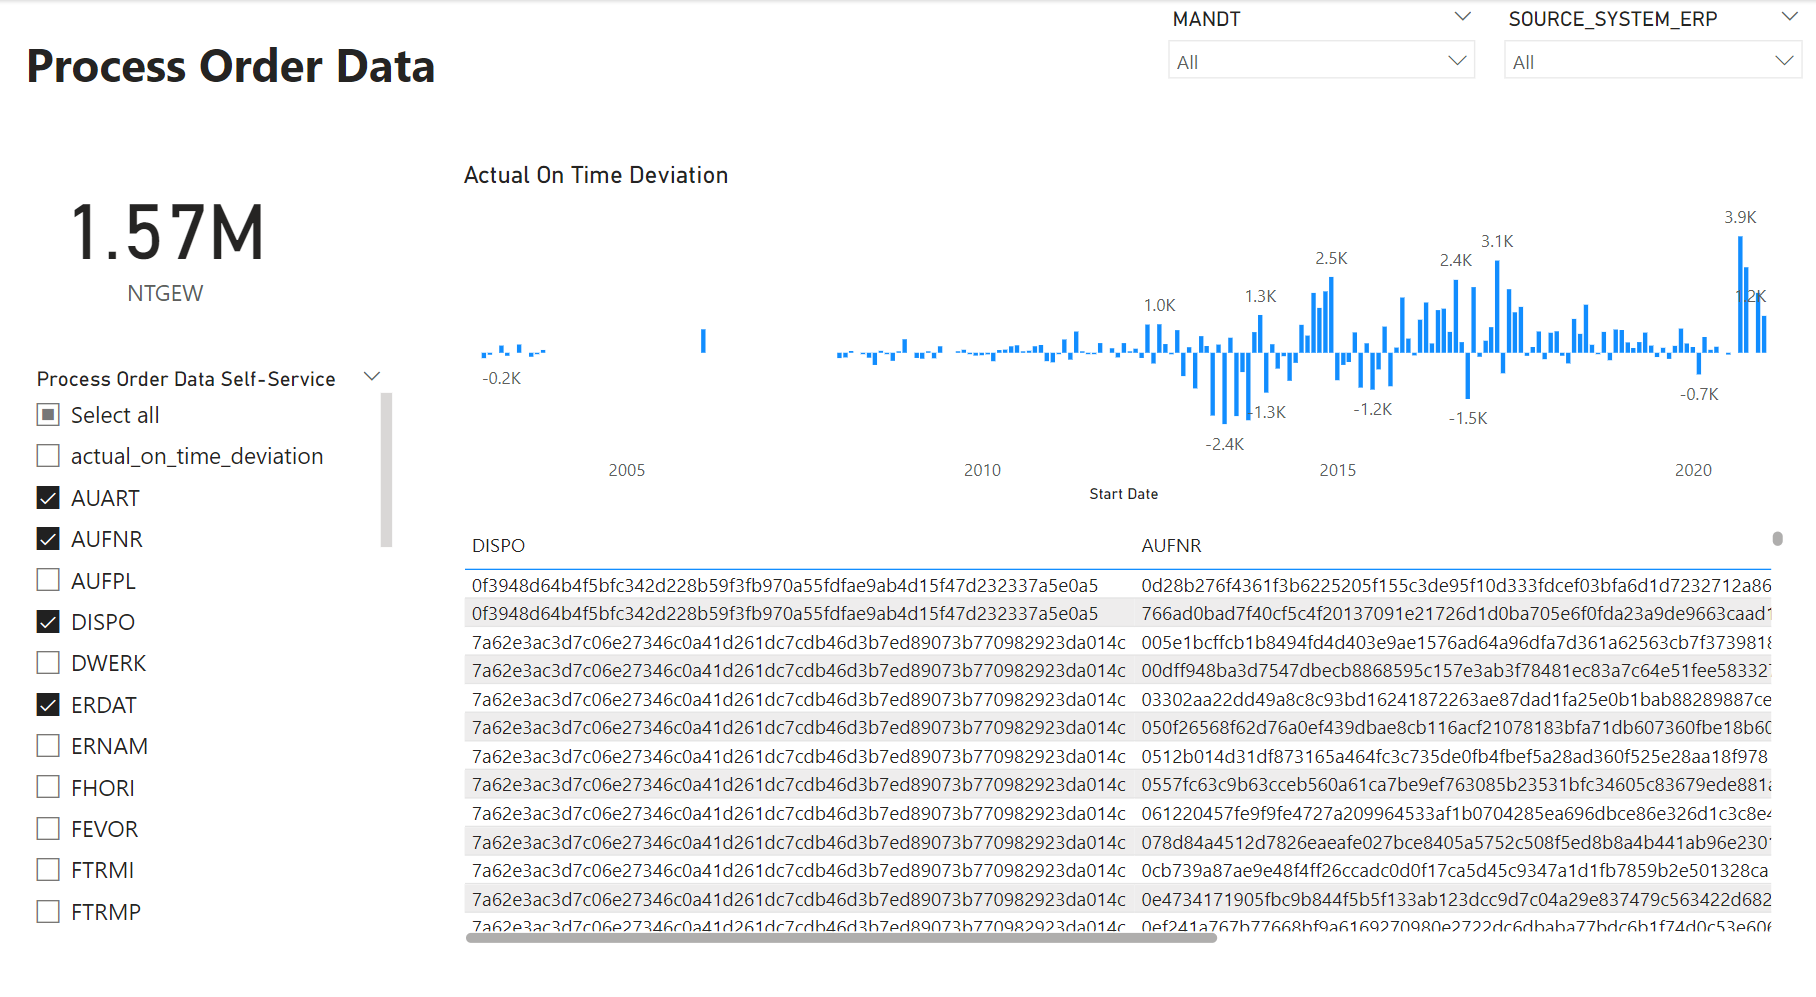

The dashboard page shown, as its layout file describes it:
{"tool":"powerbi","page":{"name":"Process Order Data","canvas":[1280,720],"ordinal":1},"visuals":[{"type":"clusteredColumnChart","title":"Actual On Time Deviation","fields":{"Y":["Sum(process_order_s1.actual_on_time_deviation)"],"Category":["process_order_s1.start_date"]},"box":[327,112,935.5,244.4],"z":1},{"type":"card","fields":{"Values":["Sum(process_order_s1.NTGEW)"]},"box":[20.3,112,205.9,107.8],"z":3},{"type":"textbox","box":[20.3,17.5,777.9,94.5],"z":4},{"type":"slicer","fields":{"Values":["Process Order Data Self-Service.Process Order Data Self-Service"]},"box":[20.3,252.1,266.8,404],"z":5},{"type":"tableEx","fields":{"Values":["process_order_s1.DISPO","process_order_s1.AUFNR","process_order_s1.AUART","process_order_s1.ERDAT"]},"box":[327,366.2,935.5,300.4],"z":6},{"type":"slicer","fields":{"Values":["process_order_s1.SOURCE_SYSTEM_ERP"]},"box":[1051,0,229,58.1],"z":7},{"type":"slicer","fields":{"Values":["process_order_s1.MANDT"]},"box":[815.8,0,235.3,58.1],"z":8}]}

Visuals, with their boxes in screenshot pixels (x1, y1, x2, y2), scaled from the page's 1280x720 canvas onto the 1816x997 screenshot:
"Actual On Time Deviation" clusteredColumnChart: bbox(464, 155, 1791, 494)
card - Sum(process_order_s1.NTGEW): bbox(29, 155, 321, 304)
textbox: bbox(29, 24, 1132, 155)
slicer - Process Order Data Self-Service.Process Order Data Self-Service: bbox(29, 349, 407, 909)
tableEx - process_order_s1.DISPO x process_order_s1.AUFNR: bbox(464, 507, 1791, 923)
slicer - process_order_s1.SOURCE_SYSTEM_ERP: bbox(1491, 0, 1815, 80)
slicer - process_order_s1.MANDT: bbox(1157, 0, 1491, 80)
